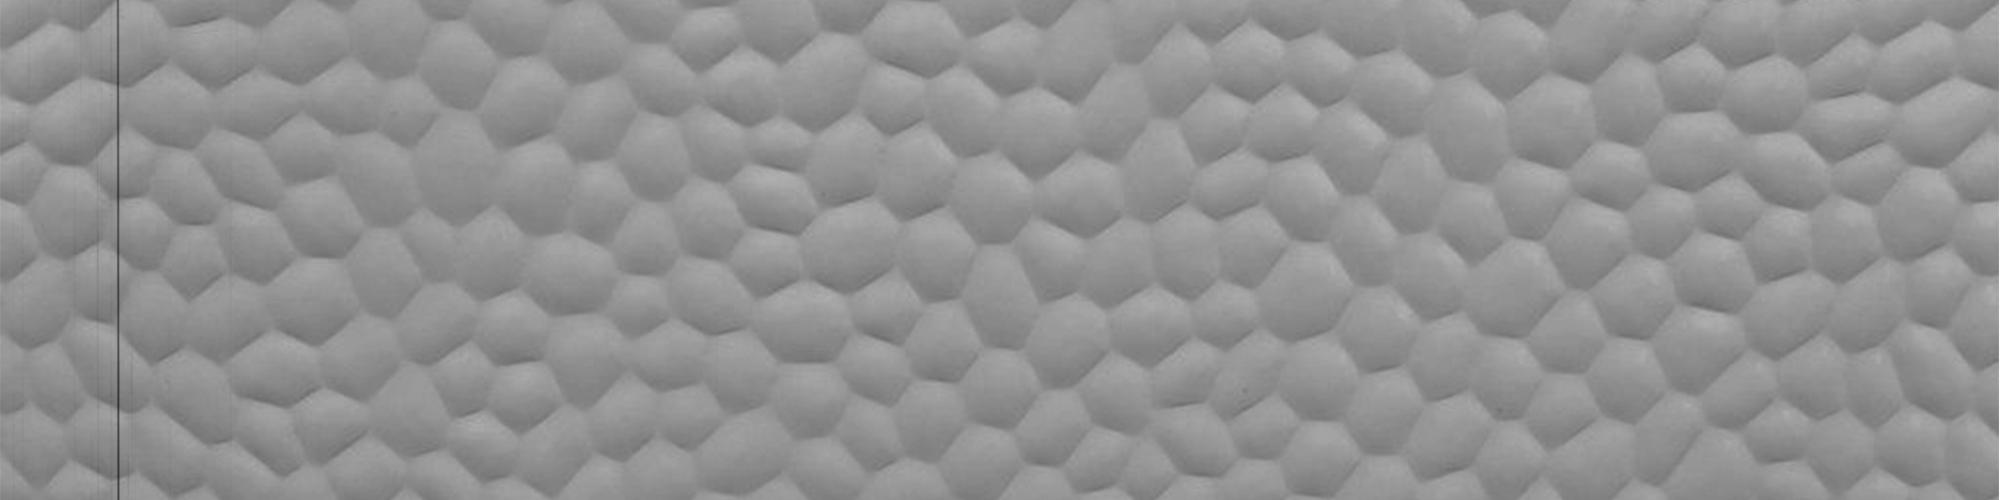DieDrag: (89, 4, 142, 500)
